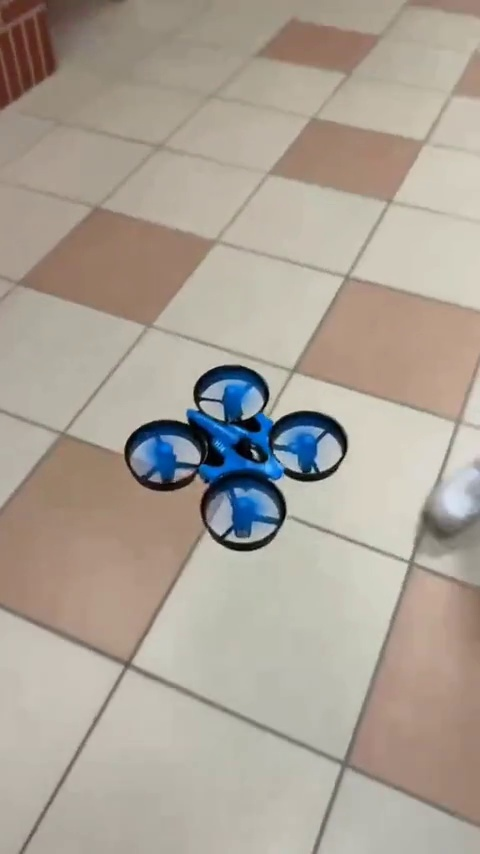drone: (126, 367, 352, 554)
